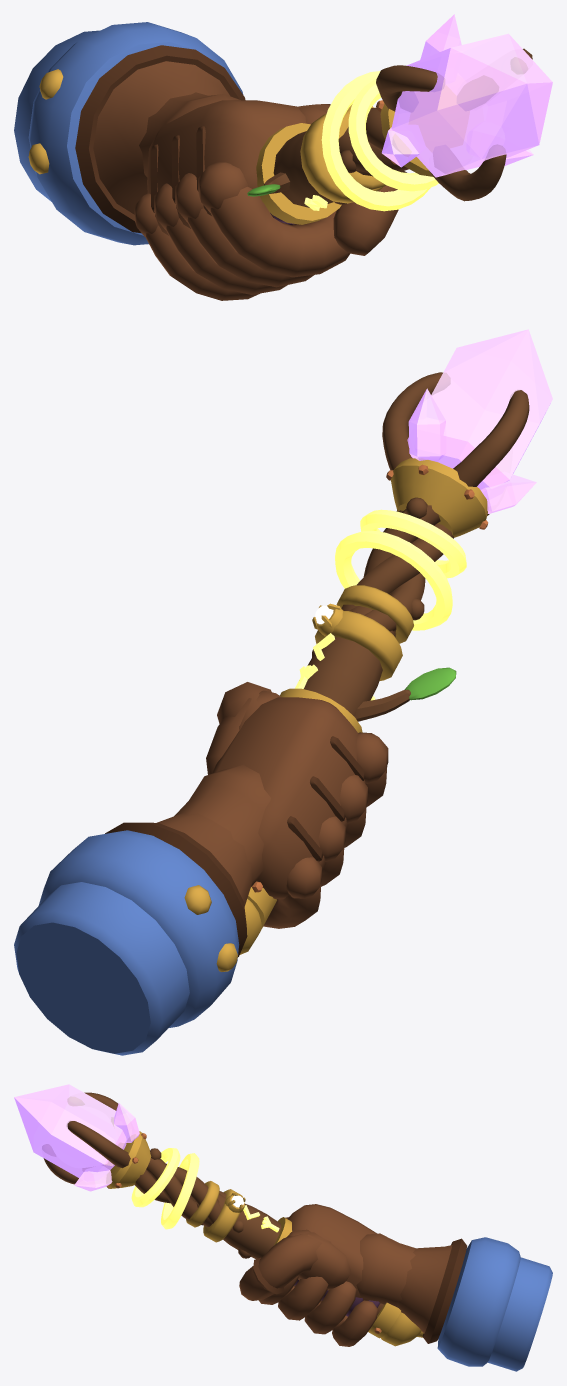
Rendered from vm_staff.glb.
3 views of the same model, one above another, from view 1: azimuth 30°, elevation 25°; view 2: azimuth 150°, elevation 25°; view 3: azimuth 270°, elevation 25° (orthographic). The views are drawn at different scales.
Parts seen in each view (by area): view 1: Glove, Staff; view 2: Glove, Staff; view 3: Glove, Staff.
Part boxes in pixels (left/top/right/bottom): Glove: left=14, top=22, right=406, bottom=300; Staff: left=247, top=14, right=552, bottom=225; Glove: left=14, top=682, right=388, bottom=1055; Staff: left=240, top=329, right=552, bottom=954; Glove: left=239, top=1204, right=552, bottom=1371; Staff: left=14, top=1084, right=423, bottom=1346.
Size of the model in its own units: 0.1621 by 0.3432 by 0.6243.
